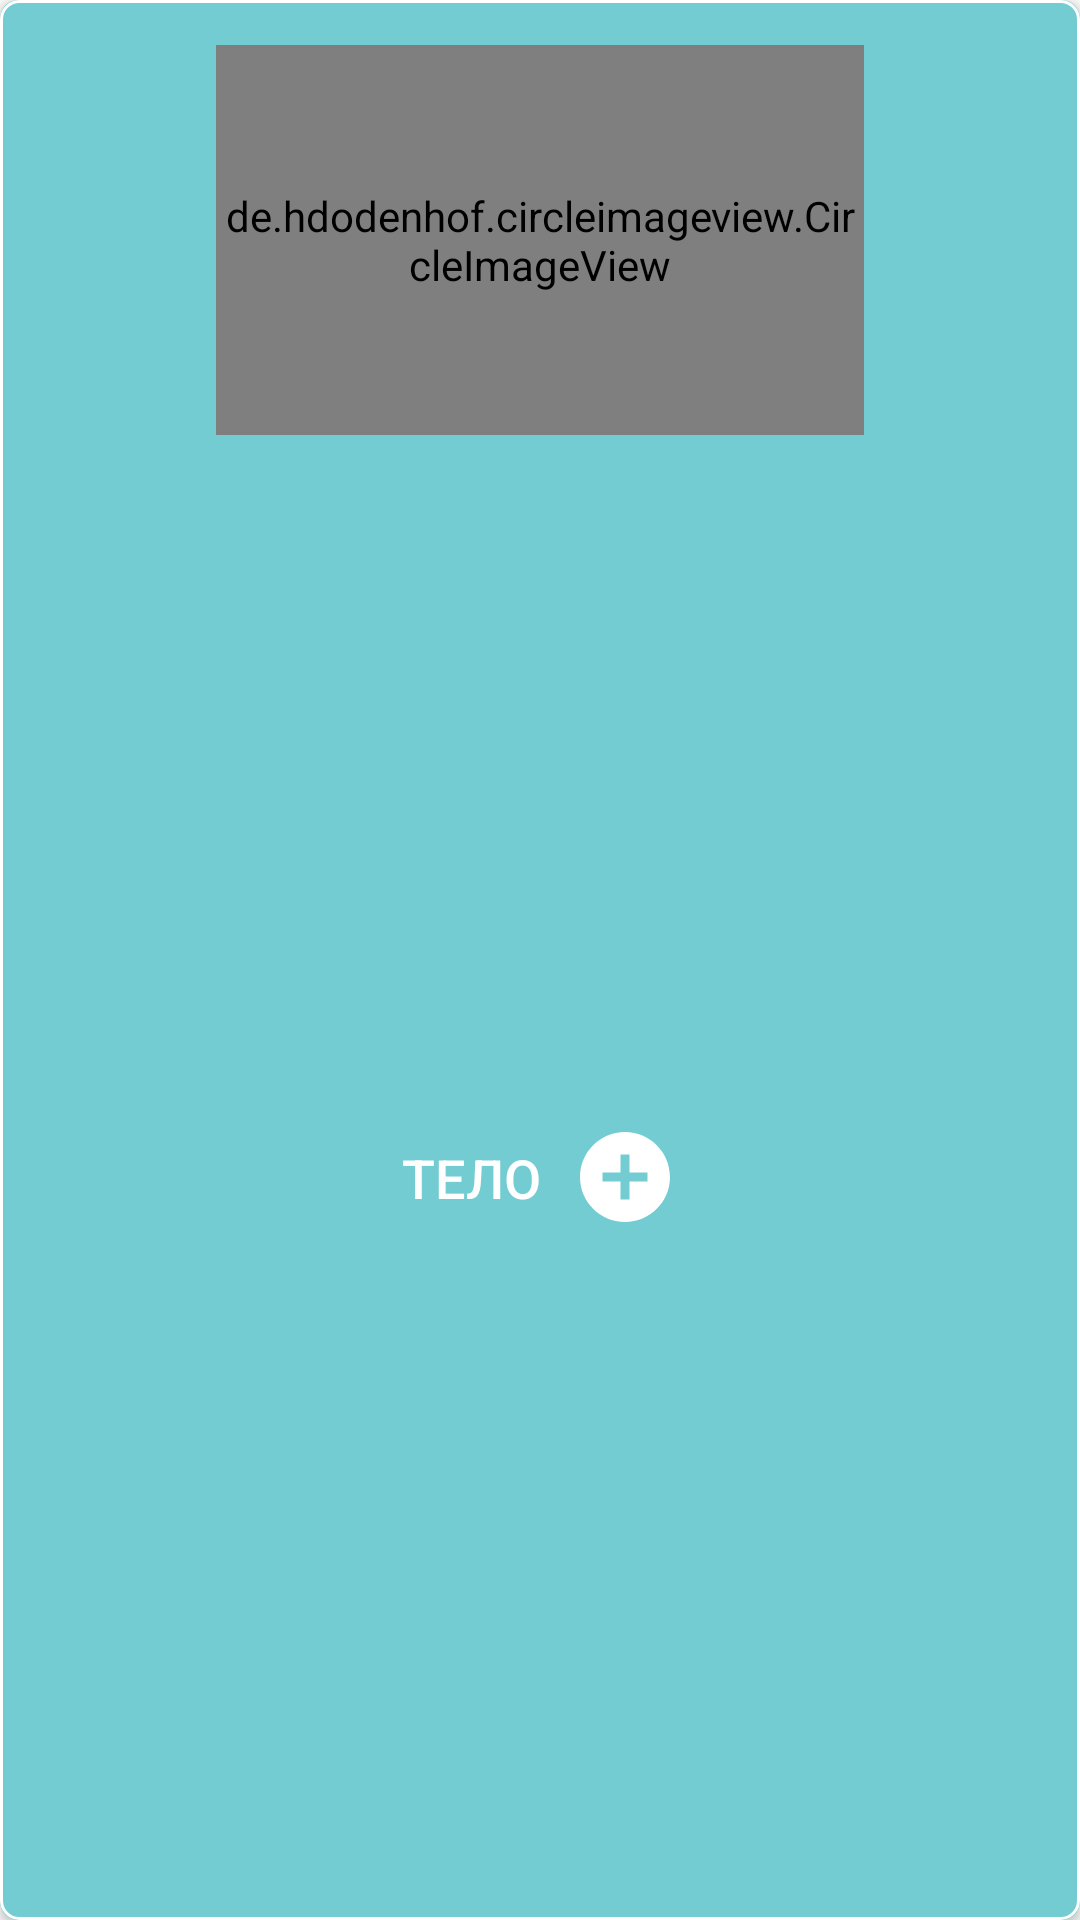

Where icons sit on this 1080px x 1920px app screen, as (x1, y1, x2, y2):
add circle: (580, 1132, 670, 1222)
